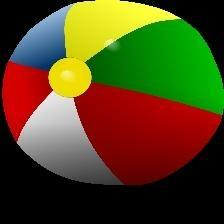Sports-Ball: (3, 0, 224, 191)
